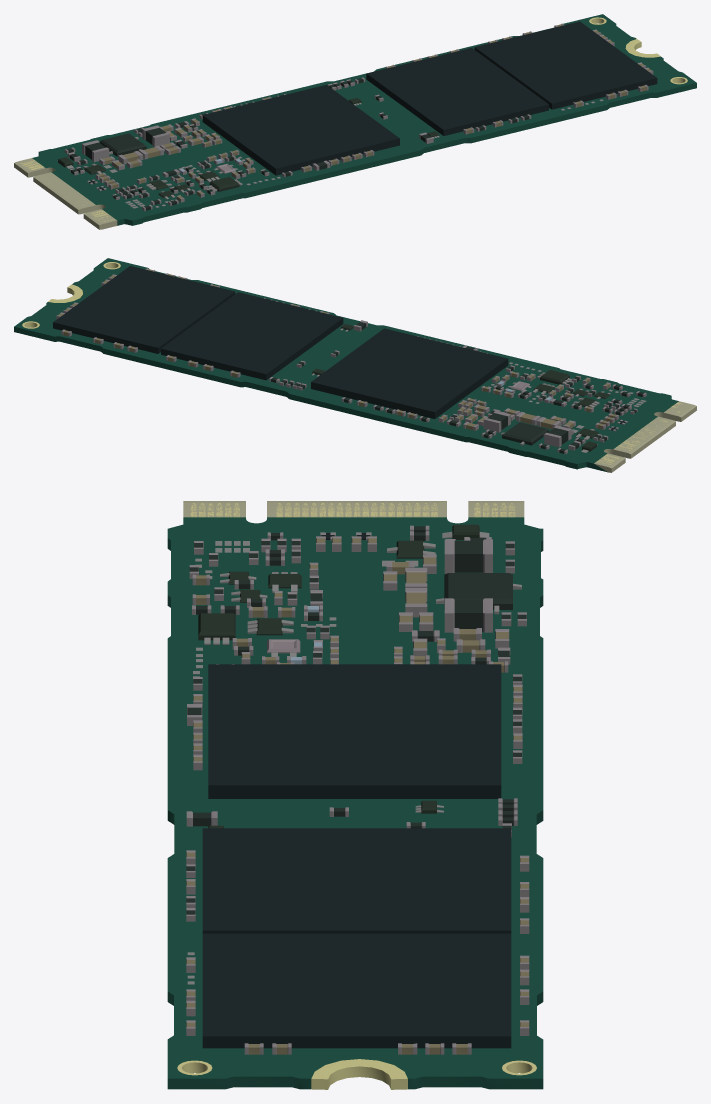
File: ssd.glb
3 views of the same model, one above another, from view 1: azimuth 30°, elevation 25°; view 2: azimuth 150°, elevation 25°; view 3: azimuth 270°, elevation 25° (orthographic). The views are drawn at different scales.
Visible parts, largest first — view 1: Object_2; view 2: Object_2; view 3: Object_2.
Part boxes in pixels (left/top/right/bottom): Object_2: left=14, top=14, right=696, bottom=229; Object_2: left=14, top=258, right=696, bottom=472; Object_2: left=167, top=501, right=543, bottom=1089.
Bounding box in the file's own units: 9.57 × 0.2383 × 2.62.
Materials: 1 (1 with a texture image).
